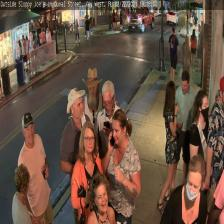person: (100, 109, 141, 224), (17, 112, 54, 224), (60, 88, 90, 224), (70, 120, 104, 224), (170, 70, 197, 199), (157, 80, 182, 216), (160, 155, 208, 223), (96, 78, 124, 190), (78, 66, 104, 176), (190, 90, 210, 224), (12, 164, 44, 224), (87, 173, 115, 224)
